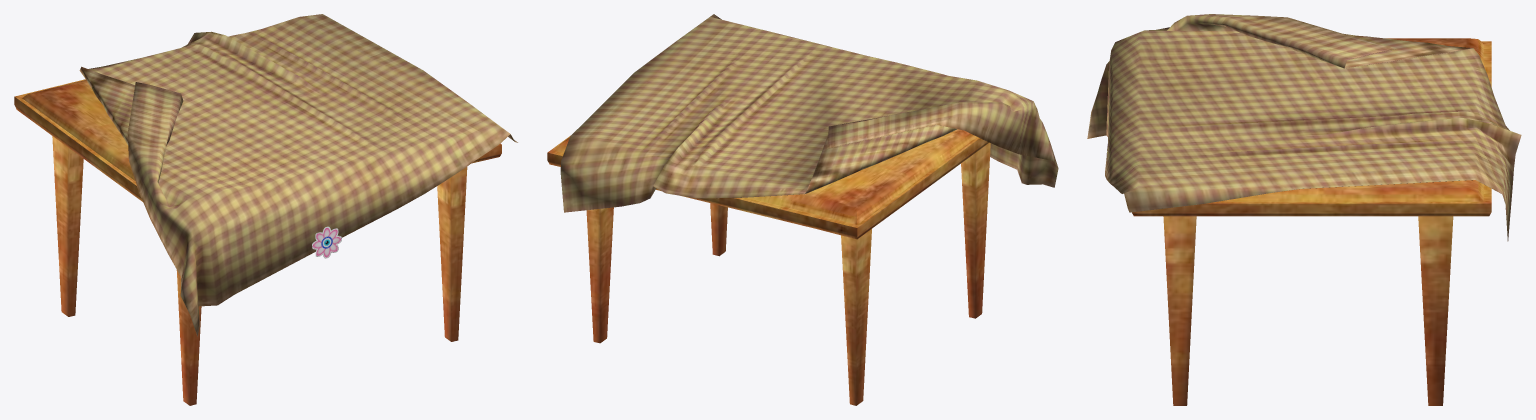
Rendered from nyb_katz_tableplain.glb.
3 renders of one model, left to right at view 1: azimuth 30°, elevation 25°; view 2: azimuth 150°, elevation 25°; view 3: azimuth 270°, elevation 25°, orthographic. The views are drawn at different scales.
Visible parts, largest first — view 1: dining_table, stk_eyeflower_die.png; view 2: dining_table; view 3: dining_table.
Boxes of the visible parts, x1,y1,x2,y2 form: dining_table: (14,14,517,405); stk_eyeflower_die.png: (312,226,341,258); dining_table: (547,14,1058,405); dining_table: (1087,14,1521,405).
Bounding box in the file's own units: 1.35 × 0.877 × 1.39.
2 materials, 2 textured.
